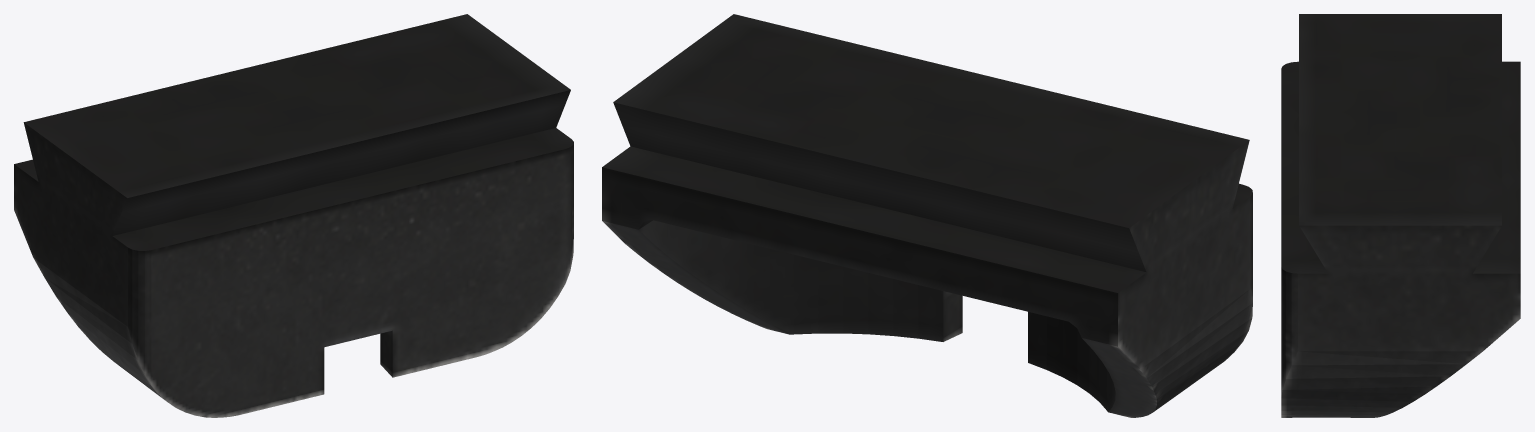
The picture shows the model from 3 angles, left to right: view 1: azimuth 30°, elevation 25°; view 2: azimuth 150°, elevation 25°; view 3: azimuth 270°, elevation 25°; orthographic projection. The views are drawn at different scales.
Parts seen in each view (by area): view 1: TW_668fe5e1800f0244f9036e46_PZ_Import; view 2: TW_668fe5e1800f0244f9036e46_PZ_Import; view 3: TW_668fe5e1800f0244f9036e46_PZ_Import.
Boxes of the visible parts, x1=… form: TW_668fe5e1800f0244f9036e46_PZ_Import: x1=14, y1=14, x2=573, y2=417; TW_668fe5e1800f0244f9036e46_PZ_Import: x1=602, y1=14, x2=1252, y2=417; TW_668fe5e1800f0244f9036e46_PZ_Import: x1=1281, y1=14, x2=1520, y2=417.
Size of the model in its own units: 0.0138 by 0.0066 by 0.00699.
Materials: 1 (1 with a texture image).
